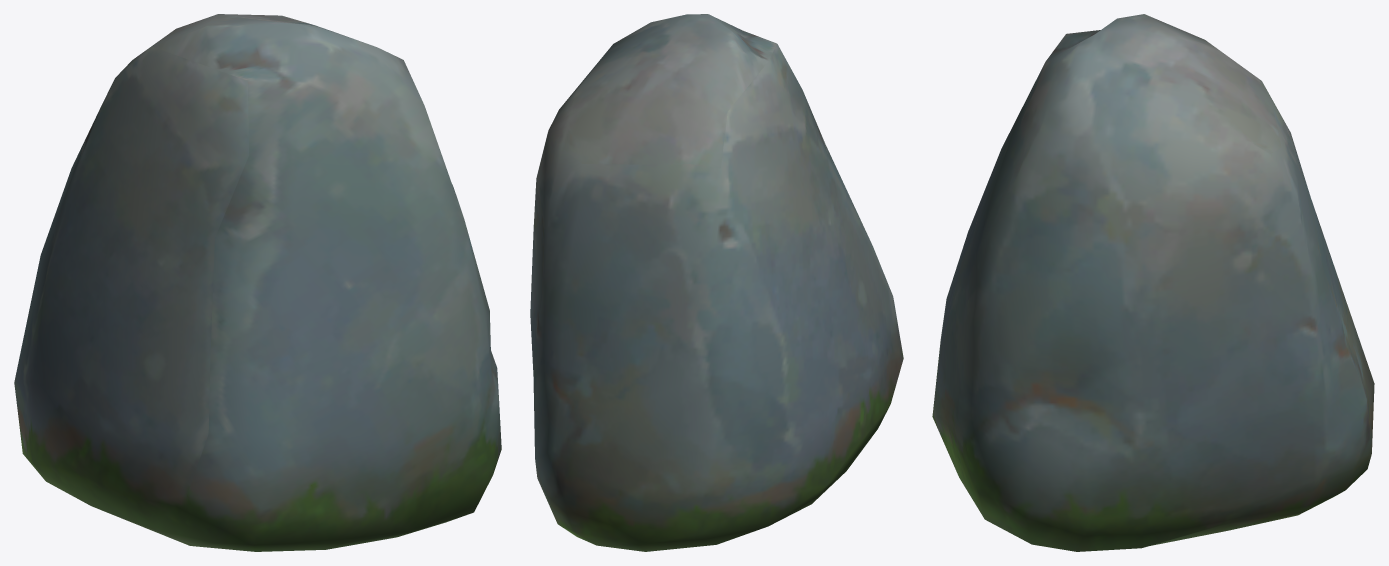
File: Homeworld_Exterior_Common_Thing_Wenquanshitou_01_Vo.fbx
The picture shows the model from 3 angles, left to right: view 1: azimuth 30°, elevation 25°; view 2: azimuth 150°, elevation 25°; view 3: azimuth 270°, elevation 25°; orthographic projection. The views are drawn at different scales.
Parts seen in each view (by area): view 1: Homeworld_Exterior_Common_Thing_Wenquanshitou_01_Vo; view 2: Homeworld_Exterior_Common_Thing_Wenquanshitou_01_Vo; view 3: Homeworld_Exterior_Common_Thing_Wenquanshitou_01_Vo.
Part boxes in pixels (x1,y1,x2,y2): Homeworld_Exterior_Common_Thing_Wenquanshitou_01_Vo: (14, 14, 501, 551); Homeworld_Exterior_Common_Thing_Wenquanshitou_01_Vo: (530, 14, 903, 551); Homeworld_Exterior_Common_Thing_Wenquanshitou_01_Vo: (932, 14, 1374, 551).
Bounding box in the file's own units: 1.91 × 2.49 × 2.13.
Materials: 1 (1 with a texture image).
